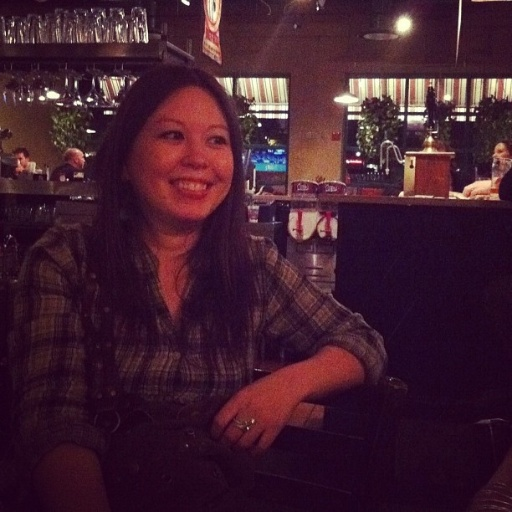hand: (206, 370, 303, 455), (460, 178, 488, 197)
